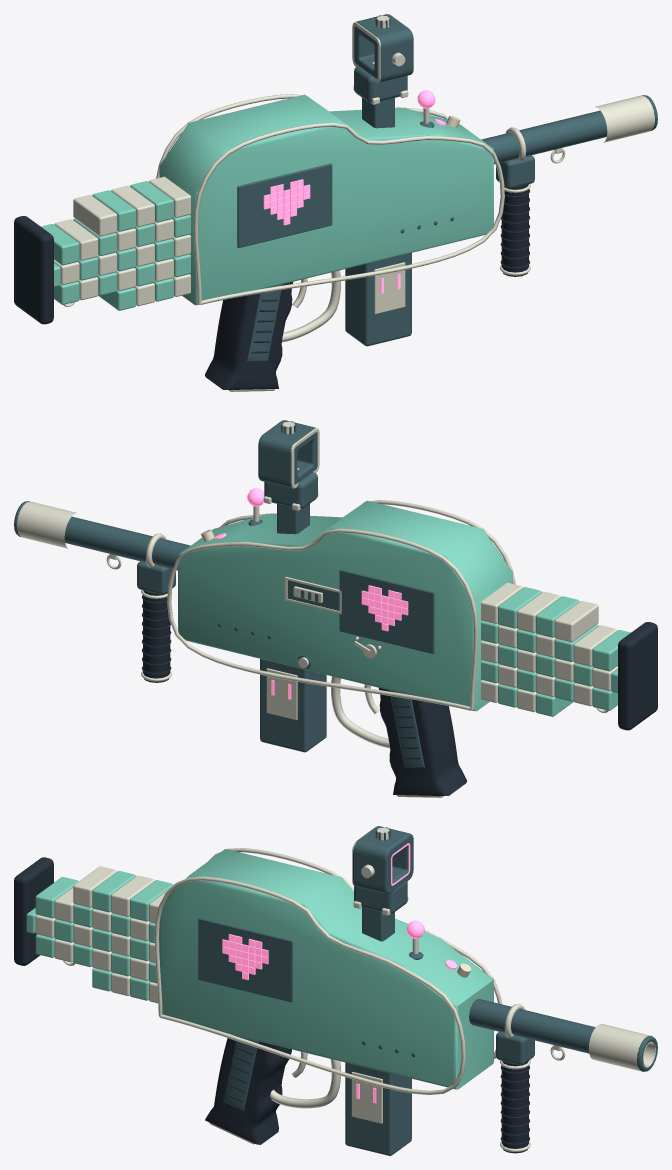
File: mint-arcade.glb
3 renders of one model, top to bottom at view 1: azimuth 30°, elevation 25°; view 2: azimuth 150°, elevation 25°; view 3: azimuth 330°, elevation 25°, orthographic.
Parts seen in each view (by area): view 1: 02_Firefly_SMG__body_Sculpt_coat, 02_Firefly_SMG__body_Sculpt_frame, 02_Firefly_SMG__body_Sculpt_metal, 02_Firefly_SMG__stock_Sculpt_metal, 02_Firefly_SMG__stock_Sculpt_coat, 02_Firefly_SMG__body_Sculpt_grip, 02_Firefly_SMG__optic_Sculpt_frame, 02_Firefly_SMG__magazine_Sculpt_frame, 02_Firefly_SMG__stock_Sculpt_grip, 02_Firefly_SMG__body_Sculpt_glow, 02_Firefly_SMG__magazine_Sculpt_metal, 02_Firefly_SMG__optic_Sculpt_metal; view 2: 02_Firefly_SMG__body_Sculpt_coat, 02_Firefly_SMG__body_Sculpt_frame, 02_Firefly_SMG__body_Sculpt_metal, 02_Firefly_SMG__stock_Sculpt_metal, 02_Firefly_SMG__stock_Sculpt_coat, 02_Firefly_SMG__body_Sculpt_grip, 02_Firefly_SMG__optic_Sculpt_frame, 02_Firefly_SMG__magazine_Sculpt_frame, 02_Firefly_SMG__stock_Sculpt_grip, 02_Firefly_SMG__body_Sculpt_glow, 02_Firefly_SMG__magazine_Sculpt_metal, 02_Firefly_SMG__optic_Sculpt_metal; view 3: 02_Firefly_SMG__body_Sculpt_coat, 02_Firefly_SMG__body_Sculpt_frame, 02_Firefly_SMG__body_Sculpt_metal, 02_Firefly_SMG__body_Sculpt_grip, 02_Firefly_SMG__stock_Sculpt_coat, 02_Firefly_SMG__stock_Sculpt_metal, 02_Firefly_SMG__optic_Sculpt_frame, 02_Firefly_SMG__magazine_Sculpt_frame, 02_Firefly_SMG__stock_Sculpt_grip, 02_Firefly_SMG__body_Sculpt_glow, 02_Firefly_SMG__magazine_Sculpt_metal, 02_Firefly_SMG__optic_Sculpt_metal.
Part boxes in pixels (x1=…): 02_Firefly_SMG__body_Sculpt_coat: x1=159, y1=94, x2=493, y2=305; 02_Firefly_SMG__body_Sculpt_frame: x1=237, y1=95, x2=657, y2=361; 02_Firefly_SMG__body_Sculpt_metal: x1=156, y1=94, x2=654, y2=391; 02_Firefly_SMG__stock_Sculpt_metal: x1=54, y1=176, x2=190, y2=307; 02_Firefly_SMG__stock_Sculpt_coat: x1=41, y1=181, x2=190, y2=310; 02_Firefly_SMG__body_Sculpt_grip: x1=205, y1=184, x2=529, y2=389; 02_Firefly_SMG__optic_Sculpt_frame: x1=354, y1=14, x2=413, y2=128; 02_Firefly_SMG__magazine_Sculpt_frame: x1=345, y1=253, x2=411, y2=346; 02_Firefly_SMG__stock_Sculpt_grip: x1=14, y1=216, x2=53, y2=324; 02_Firefly_SMG__body_Sculpt_glow: x1=263, y1=119, x2=445, y2=225; 02_Firefly_SMG__magazine_Sculpt_metal: x1=374, y1=262, x2=405, y2=314; 02_Firefly_SMG__optic_Sculpt_metal: x1=352, y1=15, x2=408, y2=104; 02_Firefly_SMG__body_Sculpt_coat: x1=178, y1=500, x2=512, y2=711; 02_Firefly_SMG__body_Sculpt_frame: x1=14, y1=501, x2=434, y2=767; 02_Firefly_SMG__body_Sculpt_metal: x1=17, y1=500, x2=515, y2=797; 02_Firefly_SMG__stock_Sculpt_metal: x1=481, y1=582, x2=617, y2=713; 02_Firefly_SMG__stock_Sculpt_coat: x1=481, y1=587, x2=630, y2=716; 02_Firefly_SMG__body_Sculpt_grip: x1=142, y1=590, x2=466, y2=795; 02_Firefly_SMG__optic_Sculpt_frame: x1=258, y1=420, x2=317, y2=534; 02_Firefly_SMG__magazine_Sculpt_frame: x1=260, y1=659, x2=326, y2=752; 02_Firefly_SMG__stock_Sculpt_grip: x1=618, y1=622, x2=657, y2=730; 02_Firefly_SMG__body_Sculpt_glow: x1=215, y1=533, x2=408, y2=648; 02_Firefly_SMG__magazine_Sculpt_metal: x1=266, y1=668, x2=297, y2=720; 02_Firefly_SMG__optic_Sculpt_metal: x1=263, y1=421, x2=319, y2=510; 02_Firefly_SMG__body_Sculpt_coat: x1=159, y1=849, x2=493, y2=1089; 02_Firefly_SMG__body_Sculpt_frame: x1=198, y1=918, x2=657, y2=1110; 02_Firefly_SMG__body_Sculpt_metal: x1=154, y1=848, x2=655, y2=1151; 02_Firefly_SMG__body_Sculpt_grip: x1=205, y1=1035, x2=529, y2=1153; 02_Firefly_SMG__stock_Sculpt_coat: x1=26, y1=871, x2=173, y2=1000; 02_Firefly_SMG__stock_Sculpt_metal: x1=35, y1=866, x2=169, y2=1003; 02_Firefly_SMG__optic_Sculpt_frame: x1=353, y1=826, x2=413, y2=941; 02_Firefly_SMG__magazine_Sculpt_frame: x1=345, y1=1062, x2=411, y2=1155; 02_Firefly_SMG__stock_Sculpt_grip: x1=14, y1=857, x2=53, y2=965; 02_Firefly_SMG__body_Sculpt_glow: x1=222, y1=934, x2=456, y2=979; 02_Firefly_SMG__magazine_Sculpt_metal: x1=351, y1=1072, x2=382, y2=1123; 02_Firefly_SMG__optic_Sculpt_metal: x1=352, y1=826, x2=408, y2=915.
Size of the model in its own units: 2.64 by 1.36 by 0.315.
